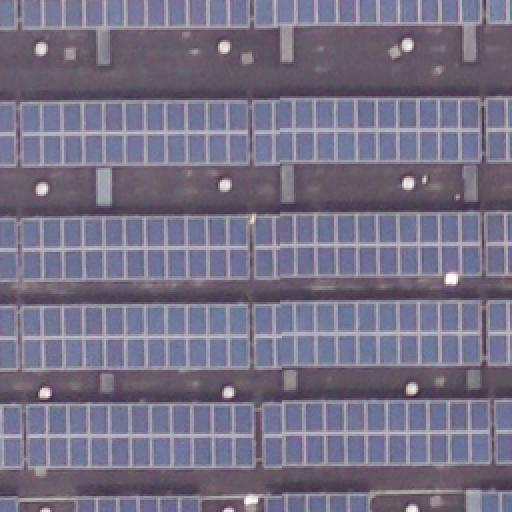solar-panel: (261, 400, 491, 468), (254, 300, 482, 368), (20, 103, 252, 169), (21, 303, 251, 369), (25, 404, 255, 468), (255, 214, 481, 278), (255, 100, 481, 164), (21, 217, 251, 279), (21, 0, 251, 28), (254, 0, 482, 28), (77, 497, 203, 511), (486, 99, 512, 165), (264, 496, 368, 512), (486, 300, 512, 364), (486, 214, 512, 274), (1, 403, 23, 469), (496, 399, 512, 465), (0, 307, 16, 373), (0, 102, 16, 166), (0, 217, 16, 279), (480, 492, 512, 512), (486, 1, 512, 23), (0, 0, 16, 28), (0, 497, 16, 511)
